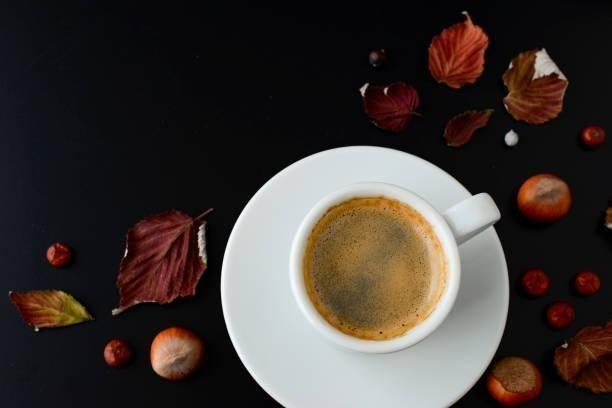cup-handle: (286, 179, 501, 357)
